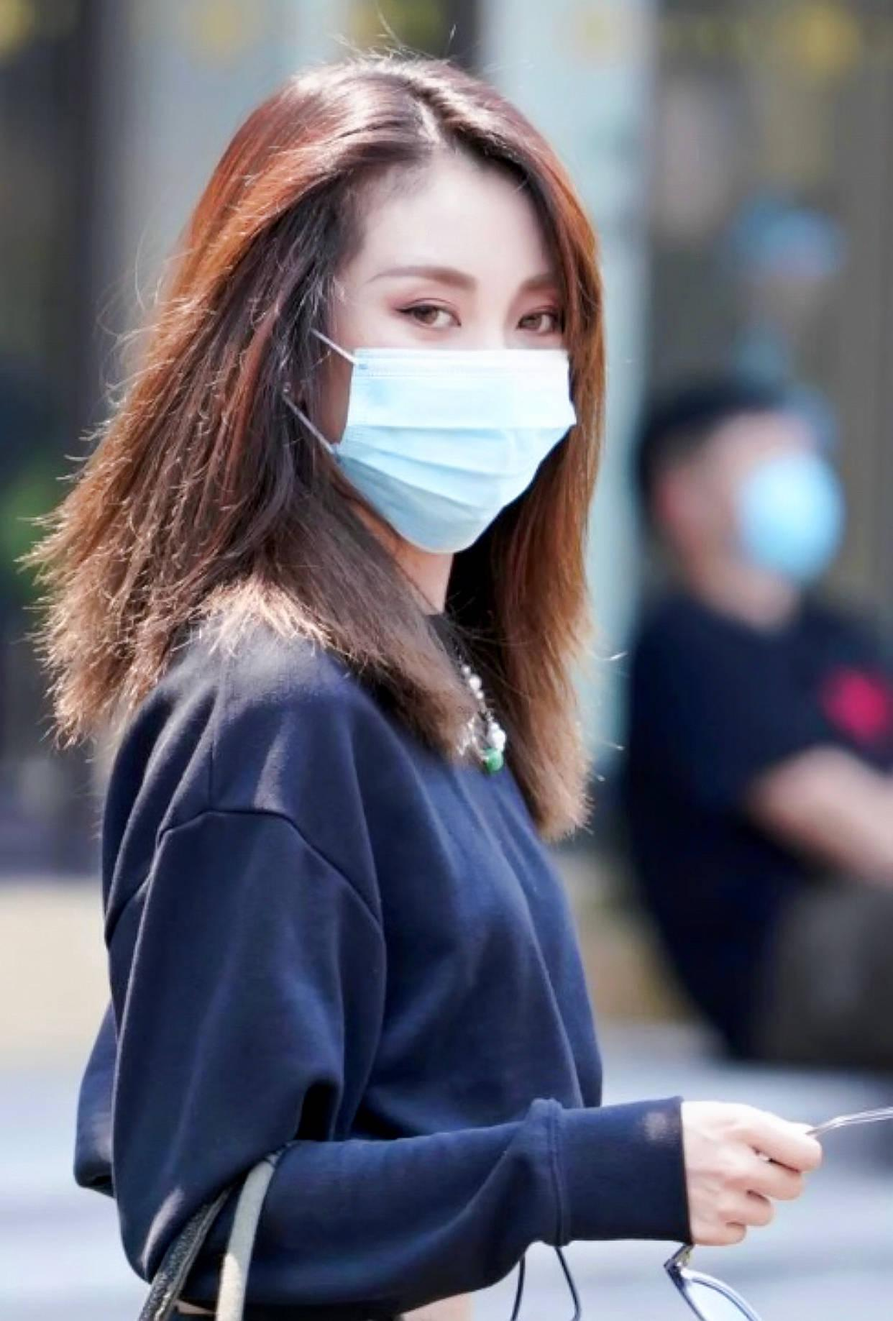OK: (334, 222, 579, 557), (710, 424, 843, 582)
